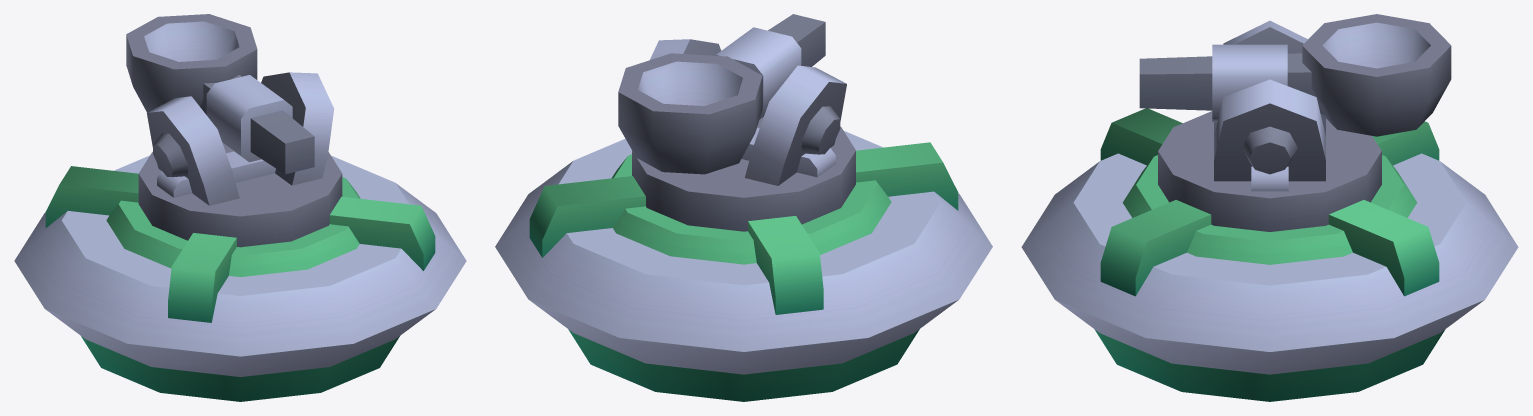
File: kenney-tower-defense-enemy-ufo-b-weapon.glb
3 renders of one model, left to right at view 1: azimuth 30°, elevation 25°; view 2: azimuth 150°, elevation 25°; view 3: azimuth 270°, elevation 25°, orthographic. The views are drawn at different scales.
Parts seen in each view (by area): view 1: enemy-ufo-b-weapon; view 2: enemy-ufo-b-weapon; view 3: enemy-ufo-b-weapon.
Part boxes in pixels (x1,y1,x2,y2): enemy-ufo-b-weapon: (14, 14, 466, 401); enemy-ufo-b-weapon: (495, 14, 992, 401); enemy-ufo-b-weapon: (1021, 14, 1518, 401).
Size of the model in its own units: 0.9994 by 0.6256 by 1.
Materials: 1 (1 with a texture image).
